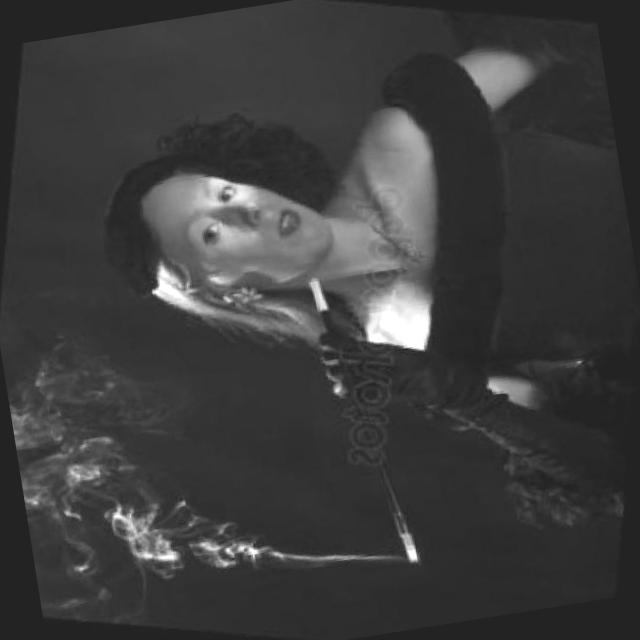smoke: (389, 526, 435, 576)
